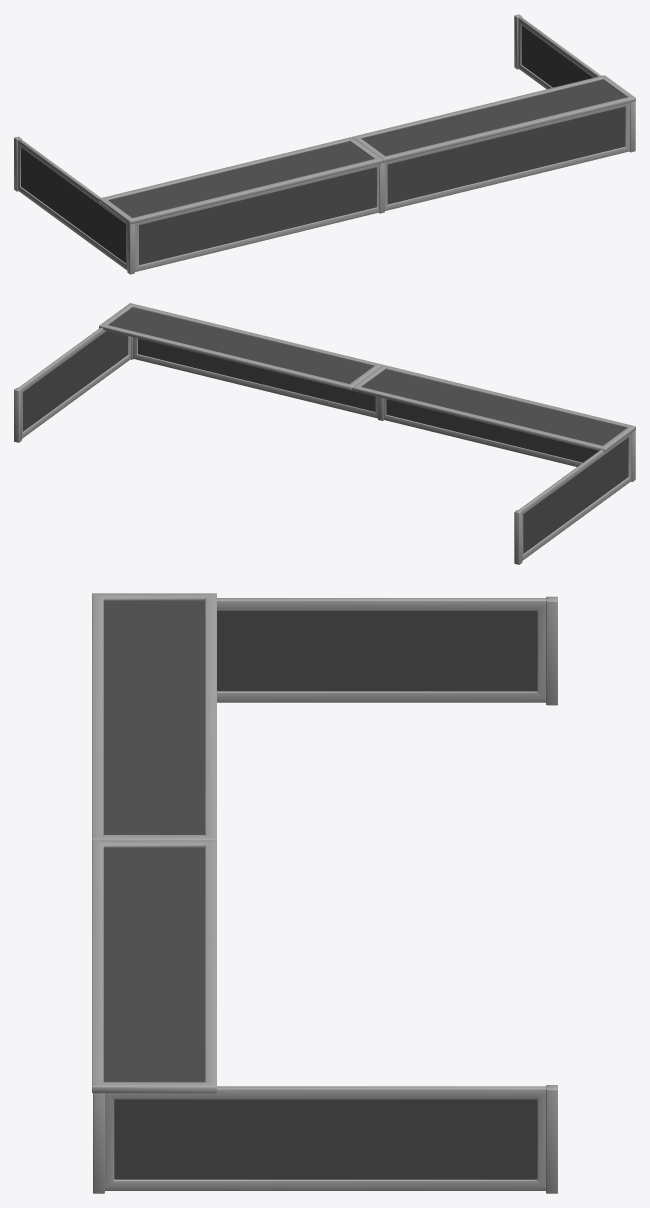
File: StallProp_H.fbx
The picture shows the model from 3 angles, top to bottom: view 1: azimuth 30°, elevation 25°; view 2: azimuth 150°, elevation 25°; view 3: azimuth 270°, elevation 25°; orthographic projection. The views are drawn at different scales.
Parts seen in each view (by area): view 1: StallProp_H; view 2: StallProp_H; view 3: StallProp_H.
Part boxes in pixels (x1,y1,x2,y2): StallProp_H: [14, 14, 635, 274]; StallProp_H: [14, 303, 635, 564]; StallProp_H: [92, 593, 557, 1193].
Bounding box in the file's own units: 2.85 × 0.2893 × 1.14.
